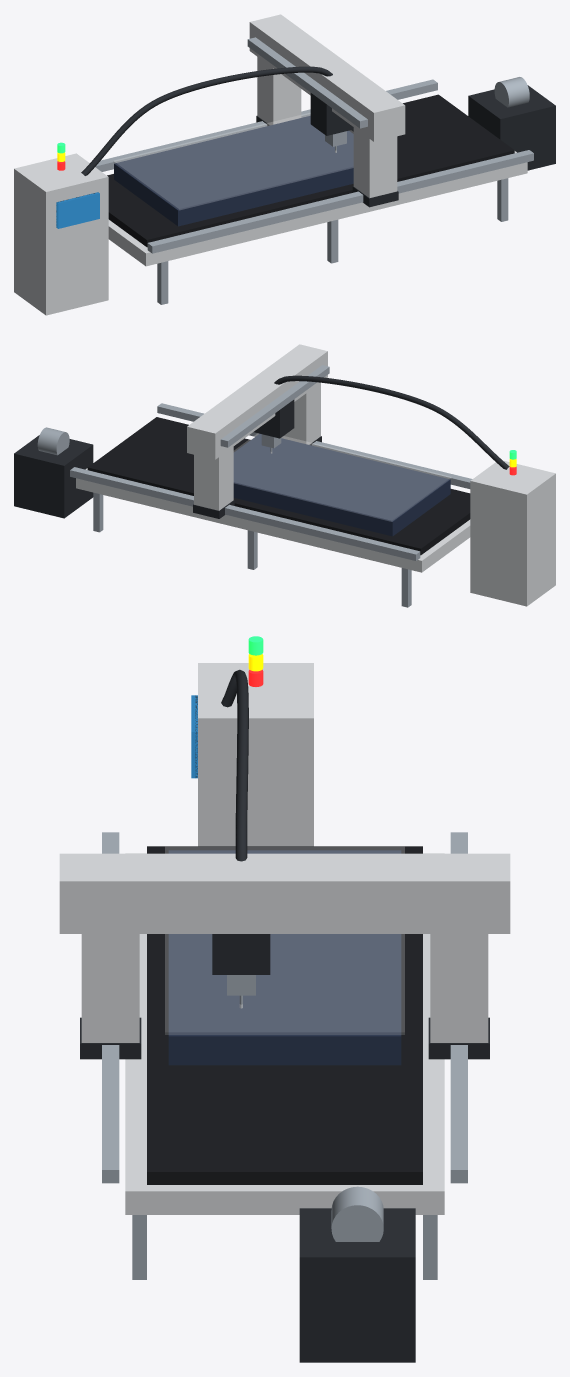
Rendered from kesim-makinesi.glb.
The picture shows the model from 3 angles, top to bottom: view 1: azimuth 30°, elevation 25°; view 2: azimuth 150°, elevation 25°; view 3: azimuth 270°, elevation 25°; orthographic projection. The views are drawn at different scales.
Visible parts, largest first — view 1: Asset; view 2: Asset; view 3: Asset.
Boxes of the visible parts, box(x1,y1,x2,y2) form: Asset: box(14, 14, 555, 315); Asset: box(14, 344, 555, 607); Asset: box(59, 636, 510, 1362).
Size of the model in its own units: 7.75 by 2.52 by 3.1.
